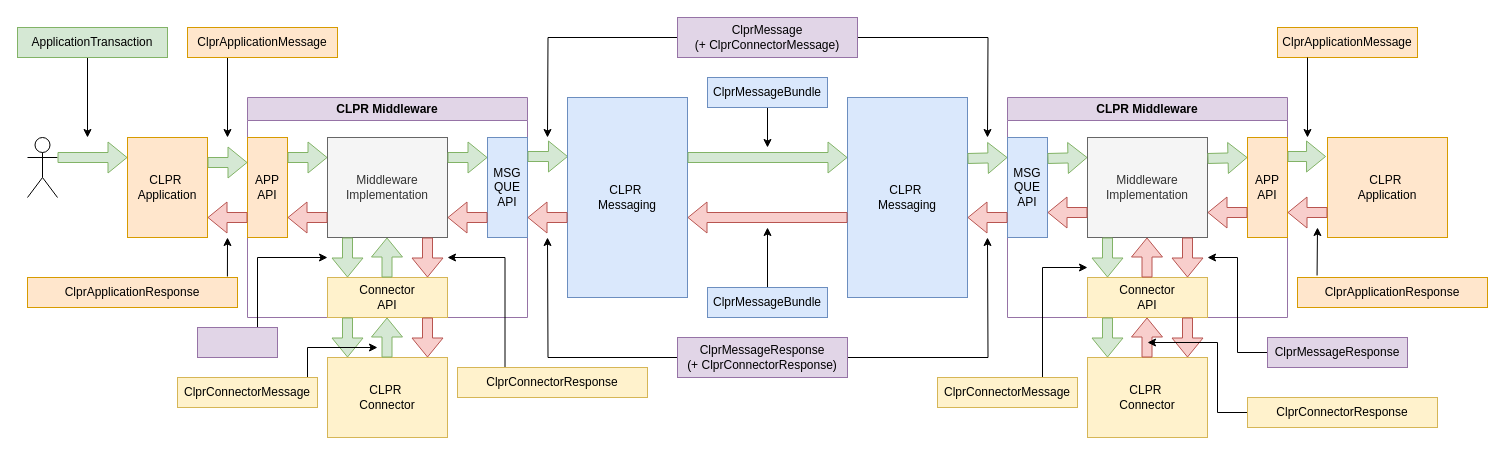
The diagram is 1505 pixels wide and 455 high, and some of its shapes have lost their labels. The centre of each missing label's shape, as x and y in pixels:
"ClprMessage" belongs at point (237, 342).
"End User" belongs at point (42, 167).
